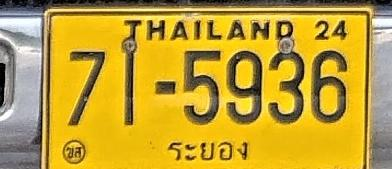1: (120, 44, 137, 126)
3: (268, 48, 304, 124)
5: (184, 49, 222, 125)
6: (312, 49, 348, 123)
7: (68, 50, 105, 126)
9: (226, 50, 262, 124)
RYG: (164, 135, 253, 168)
